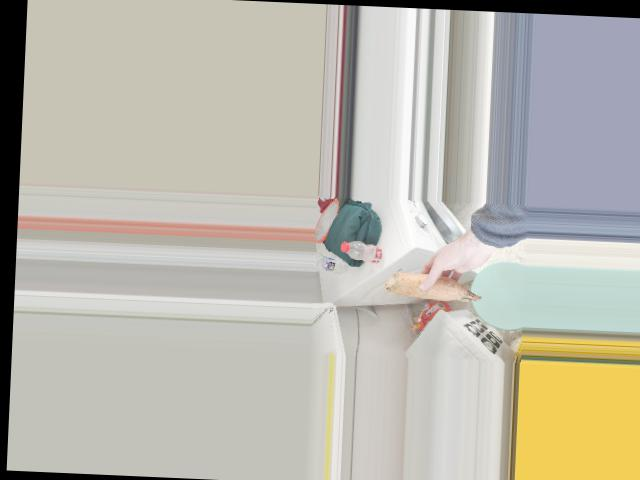sweet_potato: (380, 264, 484, 309)
